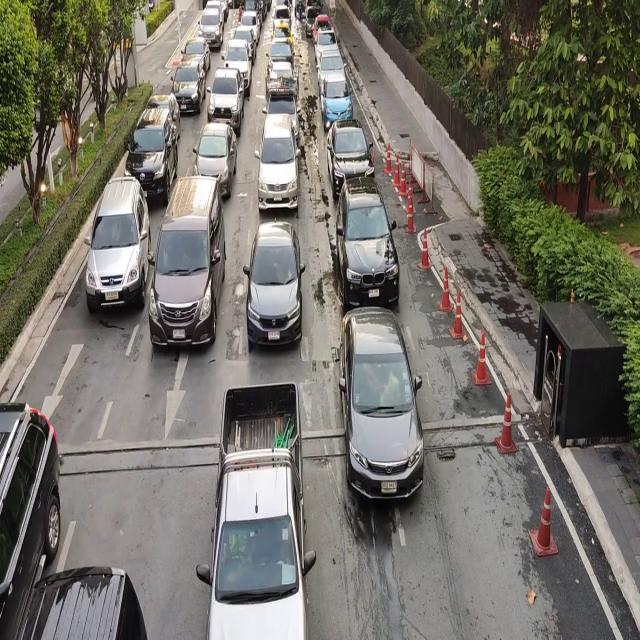car: (208, 374, 304, 640), (338, 304, 425, 504), (3, 396, 63, 640), (147, 174, 226, 351), (16, 570, 151, 640), (88, 177, 152, 306), (336, 176, 399, 307), (248, 220, 304, 342), (128, 108, 178, 195), (256, 111, 301, 202), (326, 120, 374, 174), (196, 126, 239, 184), (208, 67, 249, 120), (267, 77, 299, 126), (146, 93, 182, 136), (321, 74, 353, 122), (171, 67, 205, 110), (226, 41, 252, 85), (198, 6, 222, 48), (317, 48, 347, 76), (182, 40, 211, 68), (233, 27, 256, 62), (267, 43, 294, 65), (314, 28, 338, 50), (270, 25, 294, 46), (273, 6, 292, 28), (271, 62, 293, 78)
